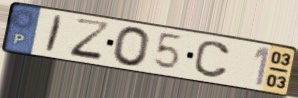1: (250, 45, 272, 88)
5: (152, 32, 184, 73)
C: (191, 39, 232, 80)
I: (43, 13, 66, 56)
O: (111, 25, 152, 68)
Z: (68, 16, 113, 64)
